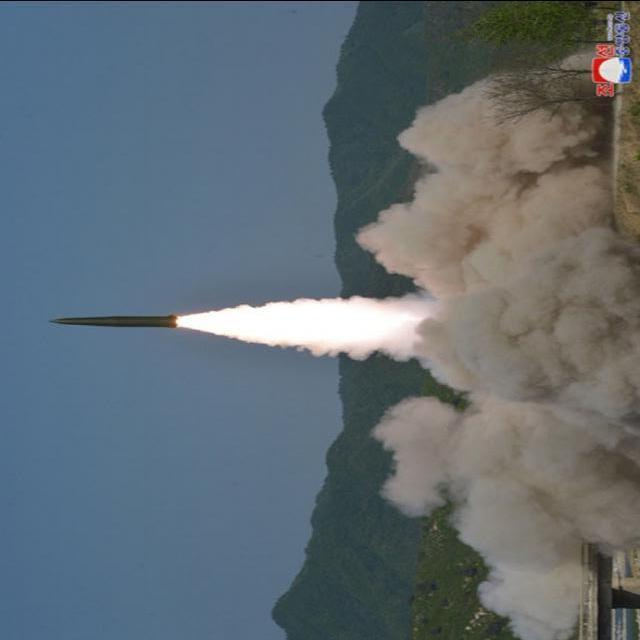missile: (42, 303, 185, 353)
